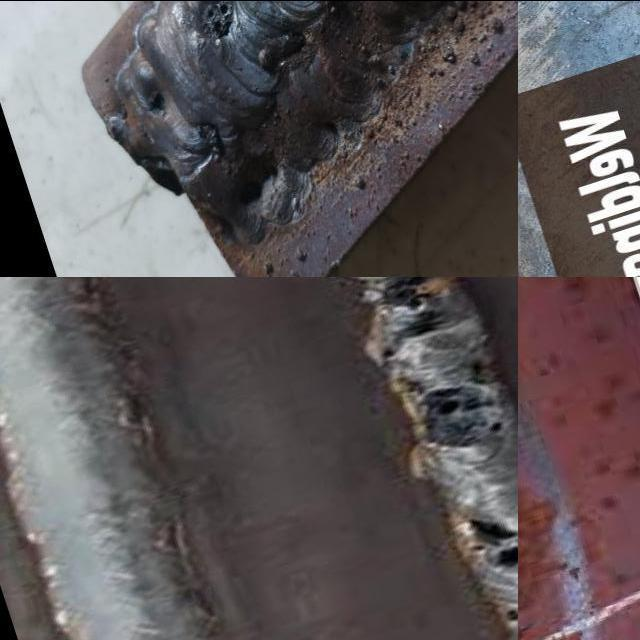defect: (420, 376, 504, 449), (377, 276, 456, 342), (452, 508, 518, 573), (193, 118, 230, 167), (197, 0, 235, 44), (145, 88, 170, 122), (499, 600, 518, 628)
